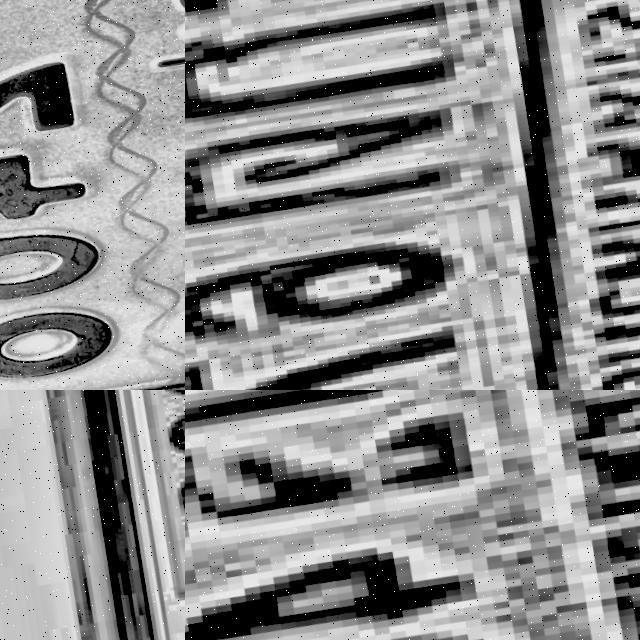license-plate: (185, 0, 640, 390), (185, 390, 640, 640), (0, 0, 185, 390), (30, 390, 185, 640)
